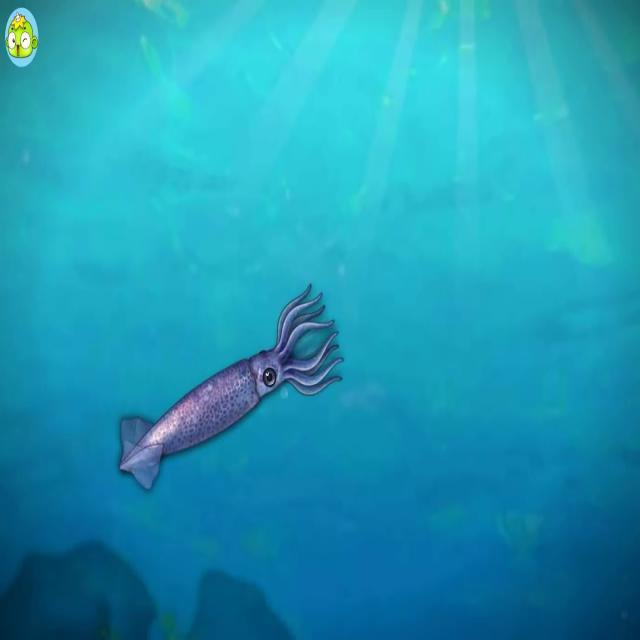squid: (116, 284, 346, 493)
